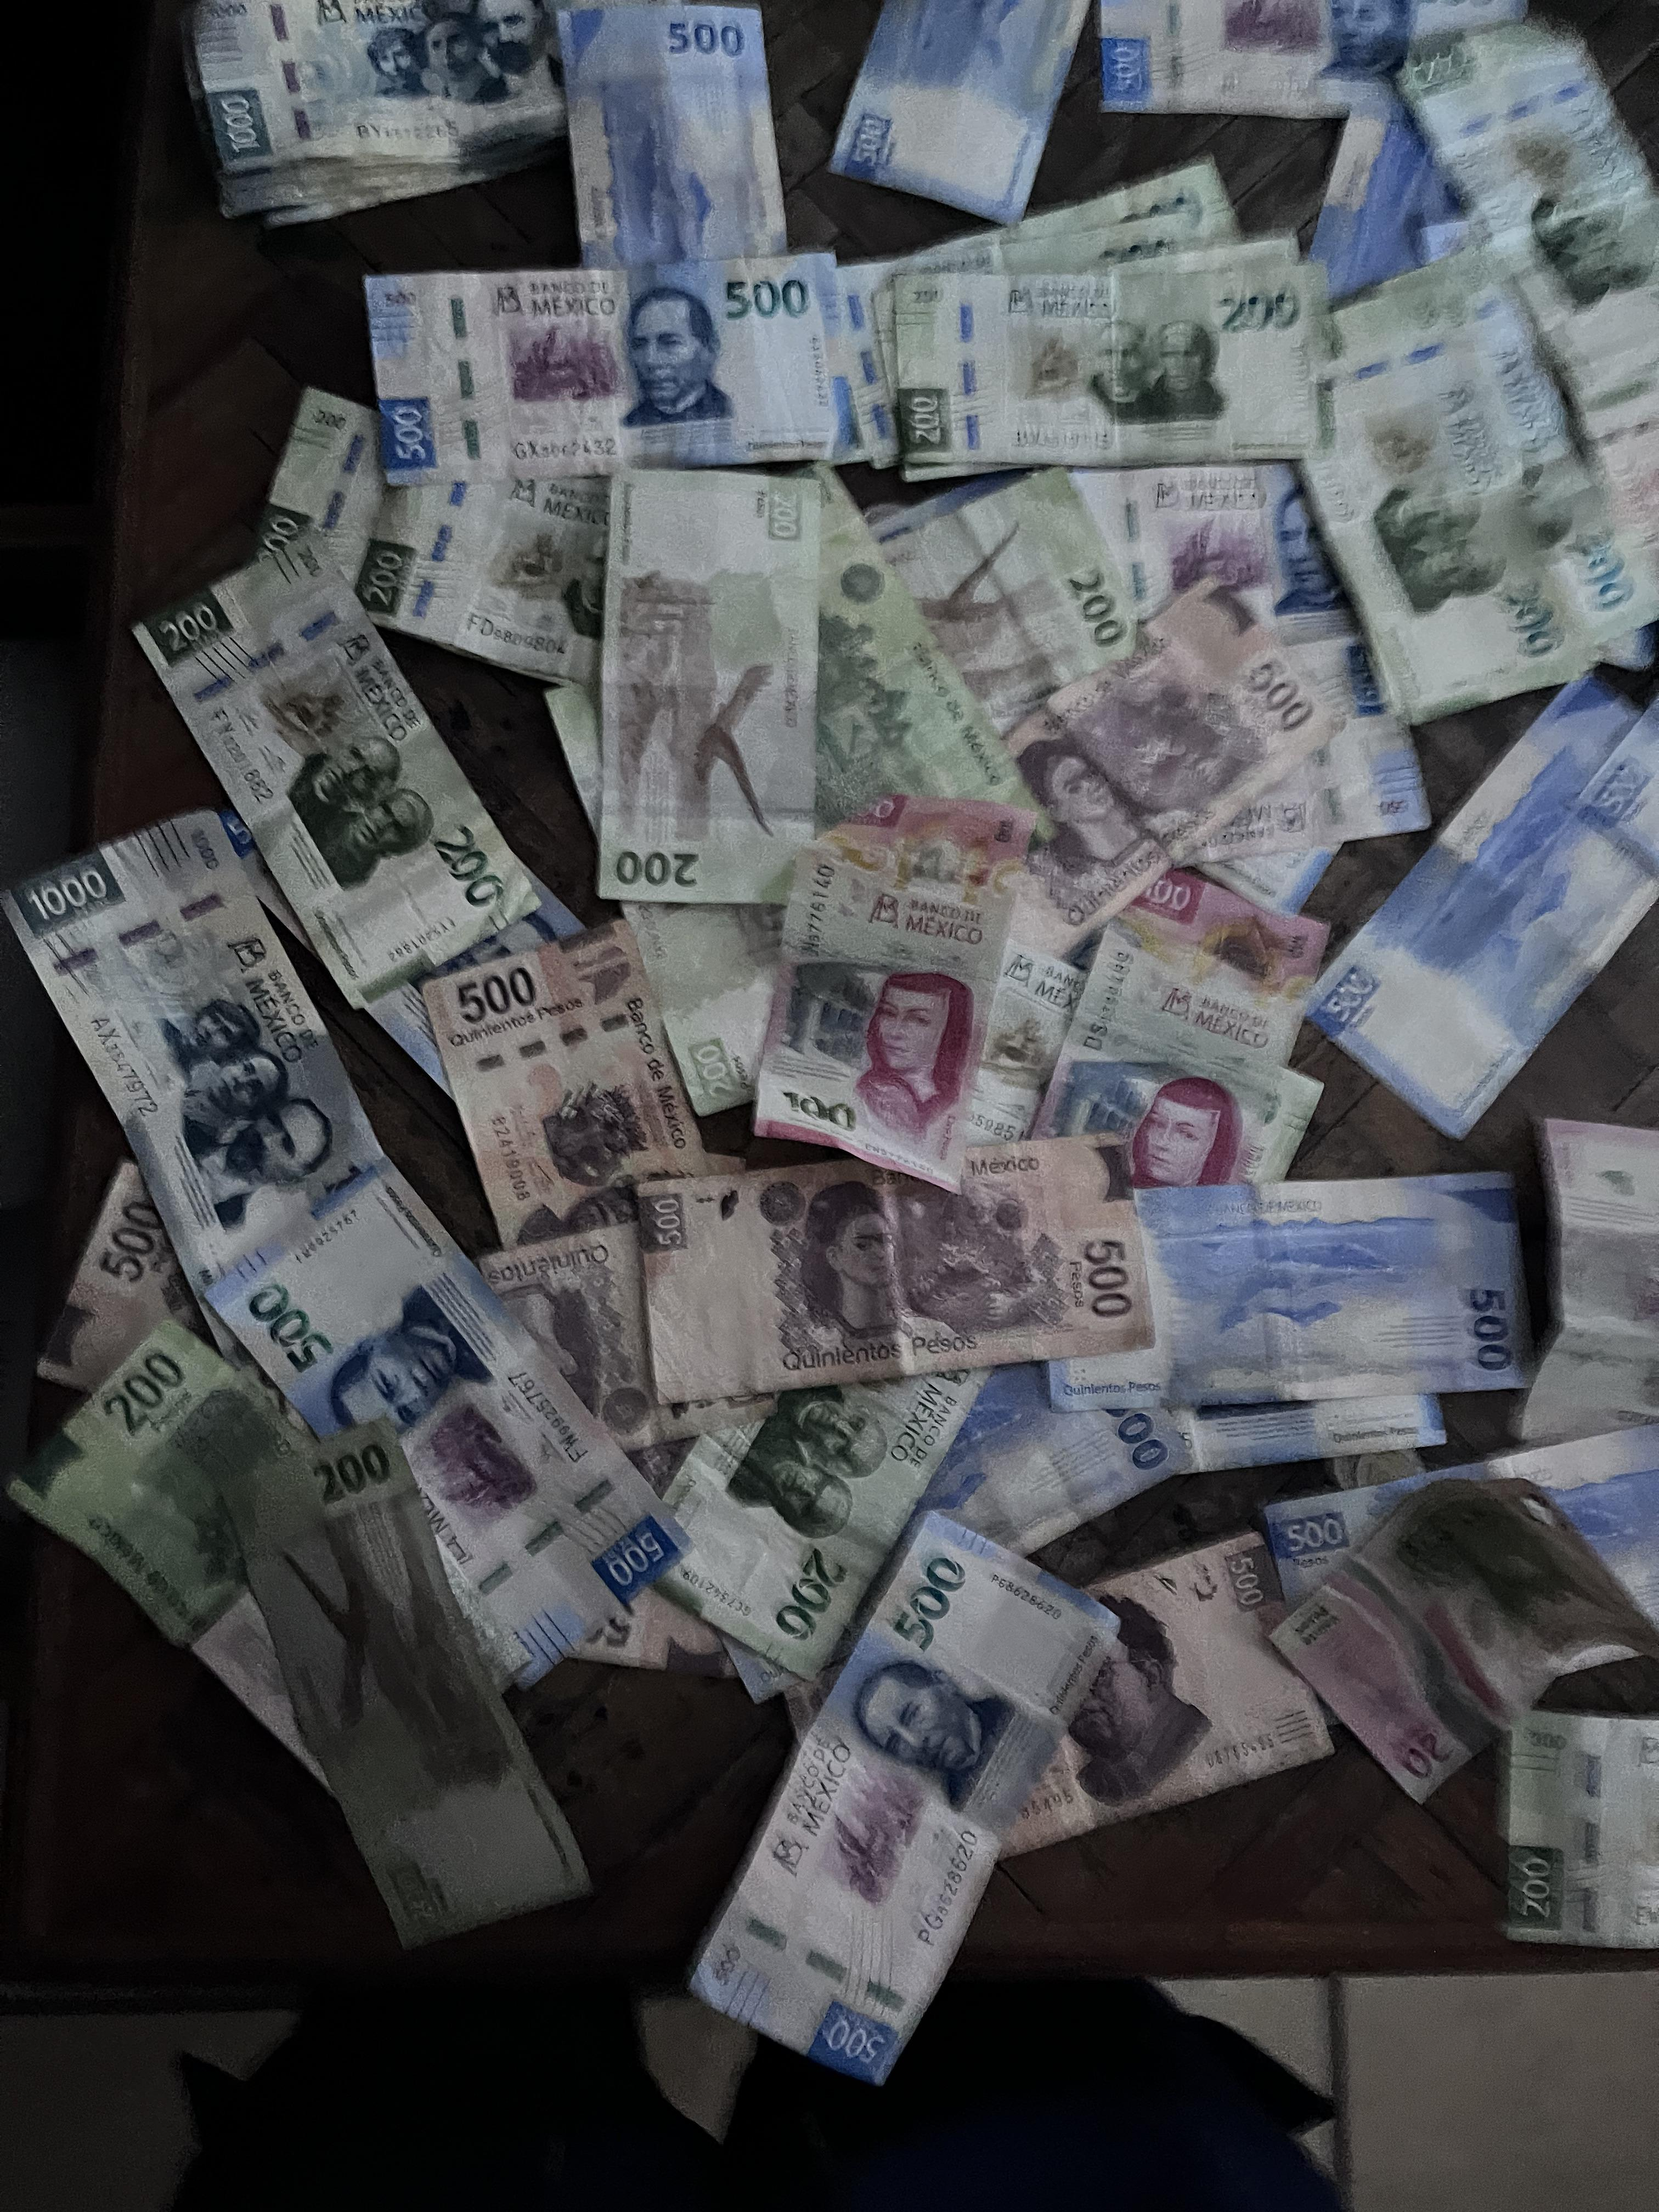100: (756, 780, 1025, 1199), (1037, 850, 1323, 1221), (1538, 1104, 1659, 1469)
1000: (0, 819, 382, 1275), (215, 0, 563, 213)
20: (1266, 1465, 1659, 1805)
200: (206, 1440, 630, 1953), (131, 531, 541, 997), (1293, 261, 1611, 711), (591, 456, 835, 902), (646, 1335, 977, 1663), (552, 695, 787, 1136), (1390, 11, 1659, 387), (11, 1318, 312, 1650), (796, 471, 1046, 863), (869, 261, 1333, 466), (332, 425, 661, 692), (885, 450, 1154, 703), (1487, 1702, 1659, 1946)
500: (998, 588, 1341, 940), (620, 1172, 1176, 1378), (1028, 1543, 1323, 1846), (422, 916, 716, 1215), (19, 1155, 196, 1376)
500 nuevo: (195, 1165, 687, 1692), (686, 1498, 1113, 2100), (1294, 671, 1659, 1142), (354, 244, 860, 495), (1050, 1168, 1536, 1412), (555, 4, 795, 280), (825, 0, 1097, 230), (1070, 458, 1372, 657), (950, 1357, 1203, 1590), (1265, 1456, 1659, 1584), (1086, 0, 1532, 113), (1311, 88, 1472, 306)
